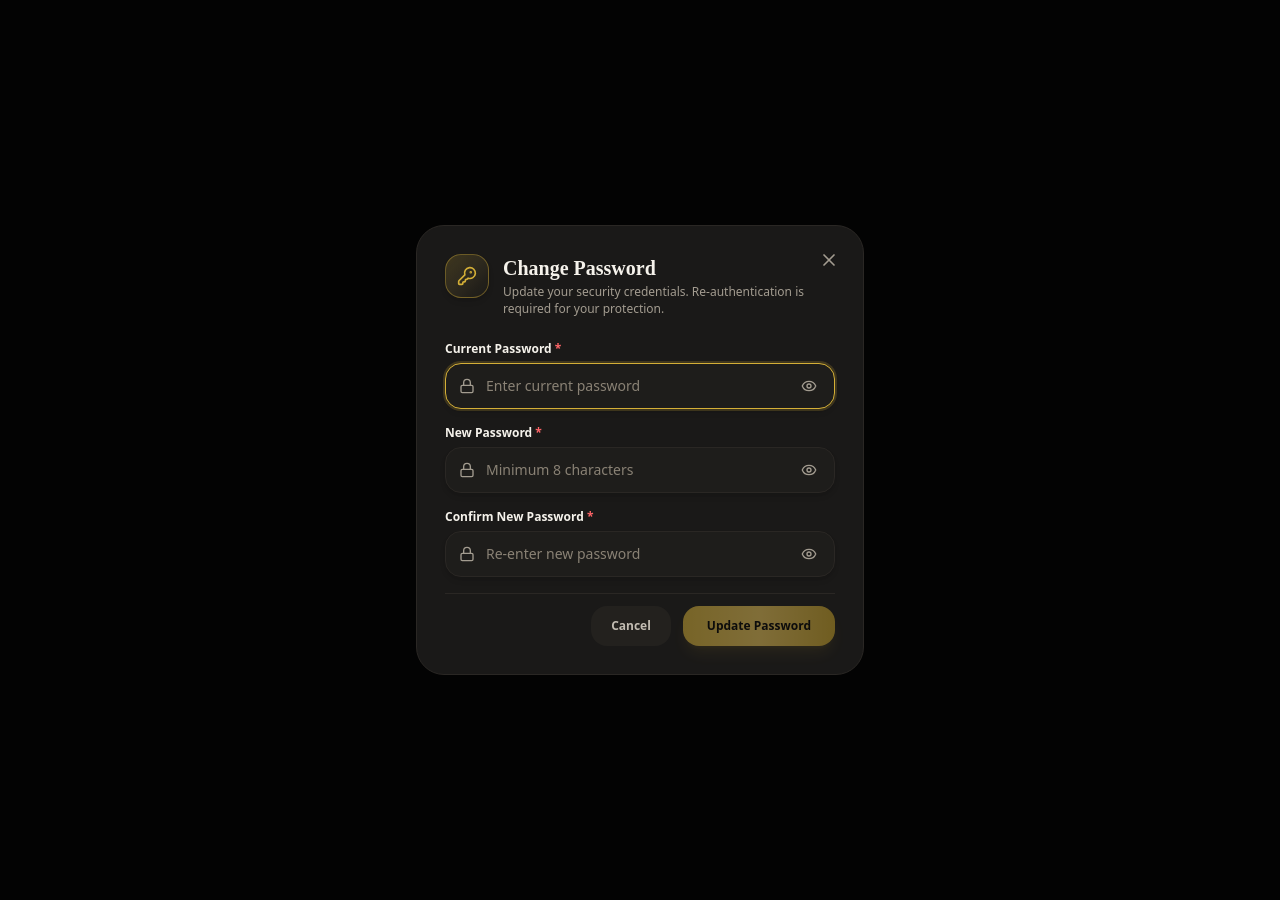
it: ChangePasswordModal › validates password fields and enables submit when valid
Step 1. Type "OldPass123!" into the password field with placeholder "Enter current password" → (640, 386), box left=445, top=363, right=835, bottom=409
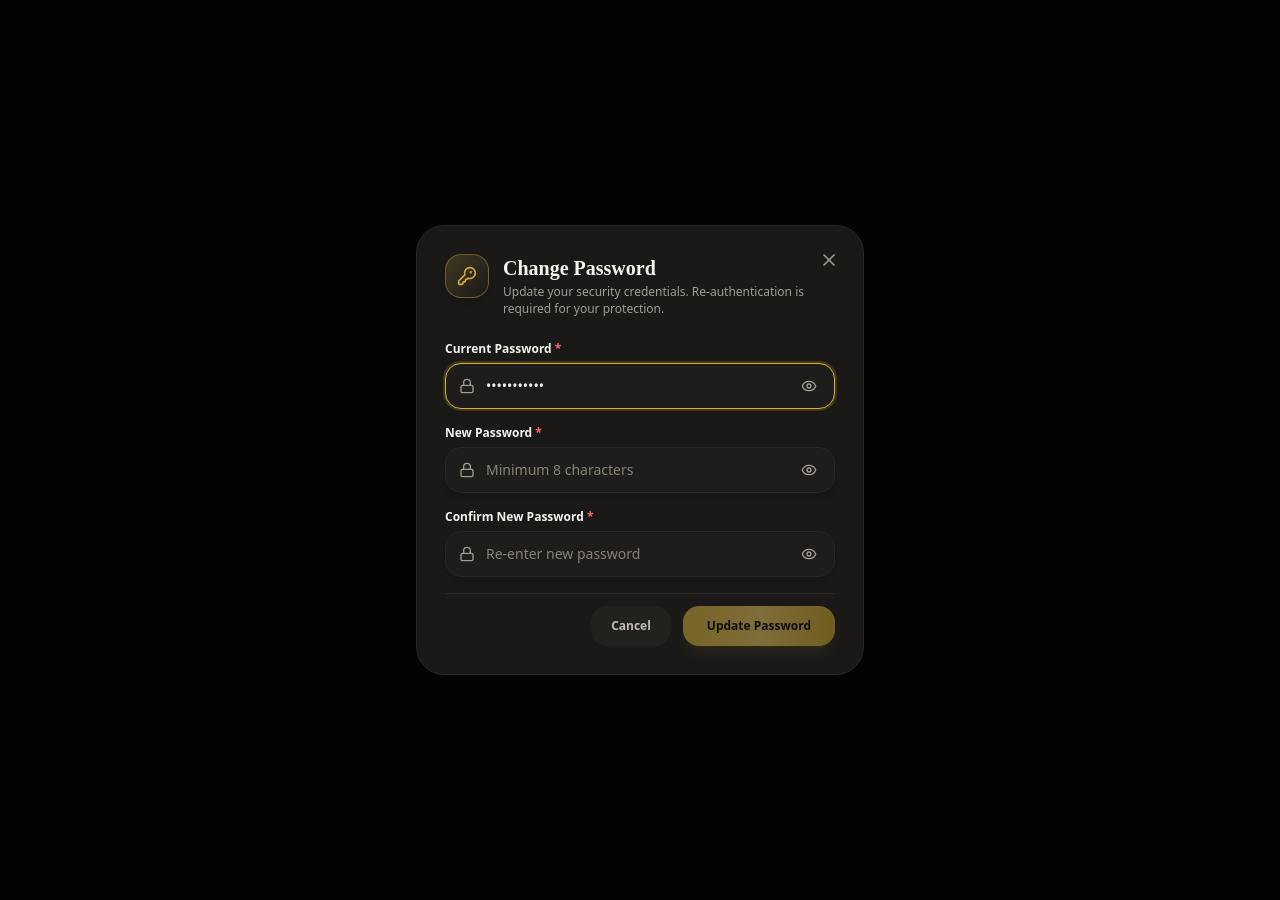
Step 2. Type "NewPass123!" into the password field with placeholder "Minimum 8 characters" → (640, 470), box left=445, top=447, right=835, bottom=493
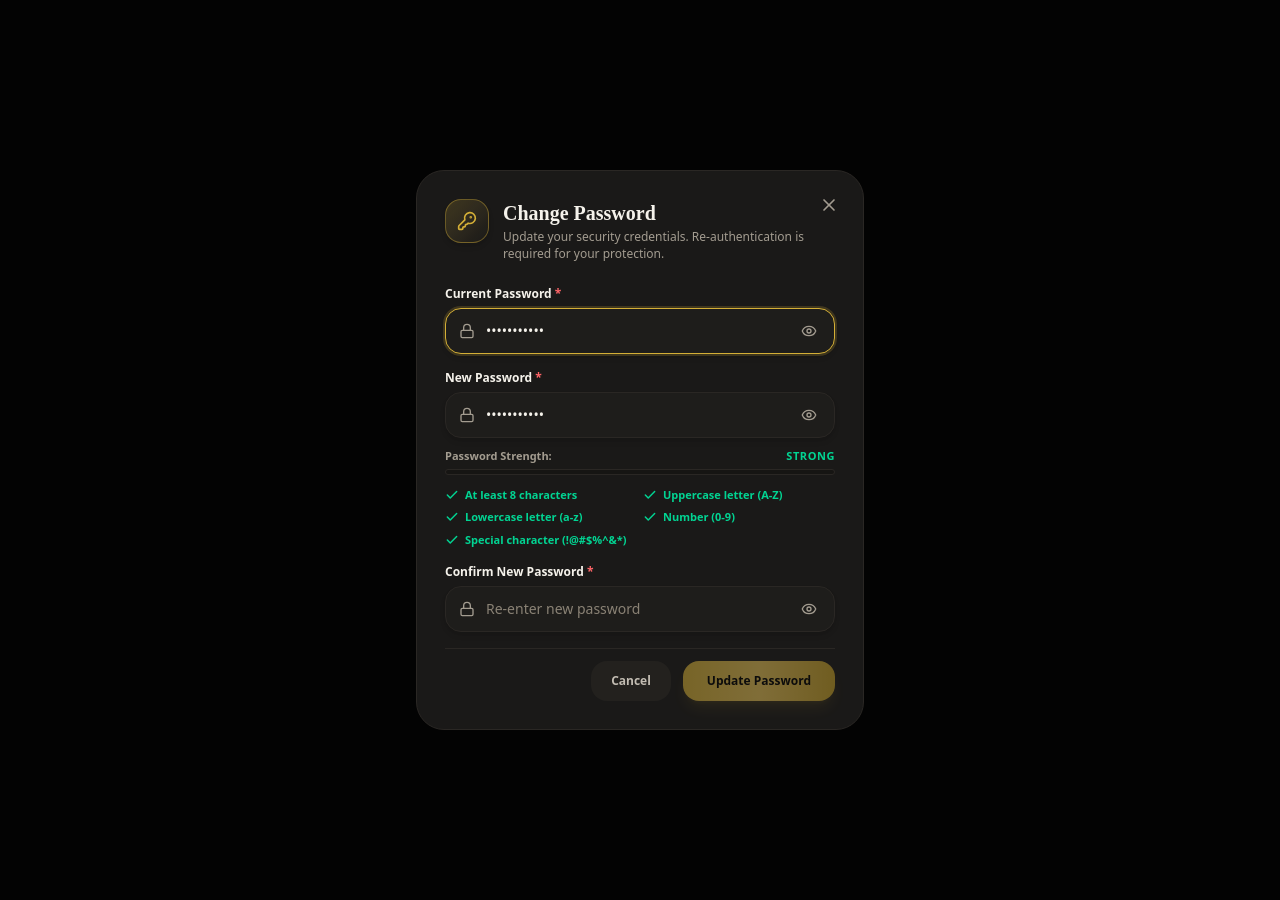
Step 3. Type "NewPass123!" into the password field with placeholder "Re-enter new password" → (640, 609), box left=445, top=586, right=835, bottom=632
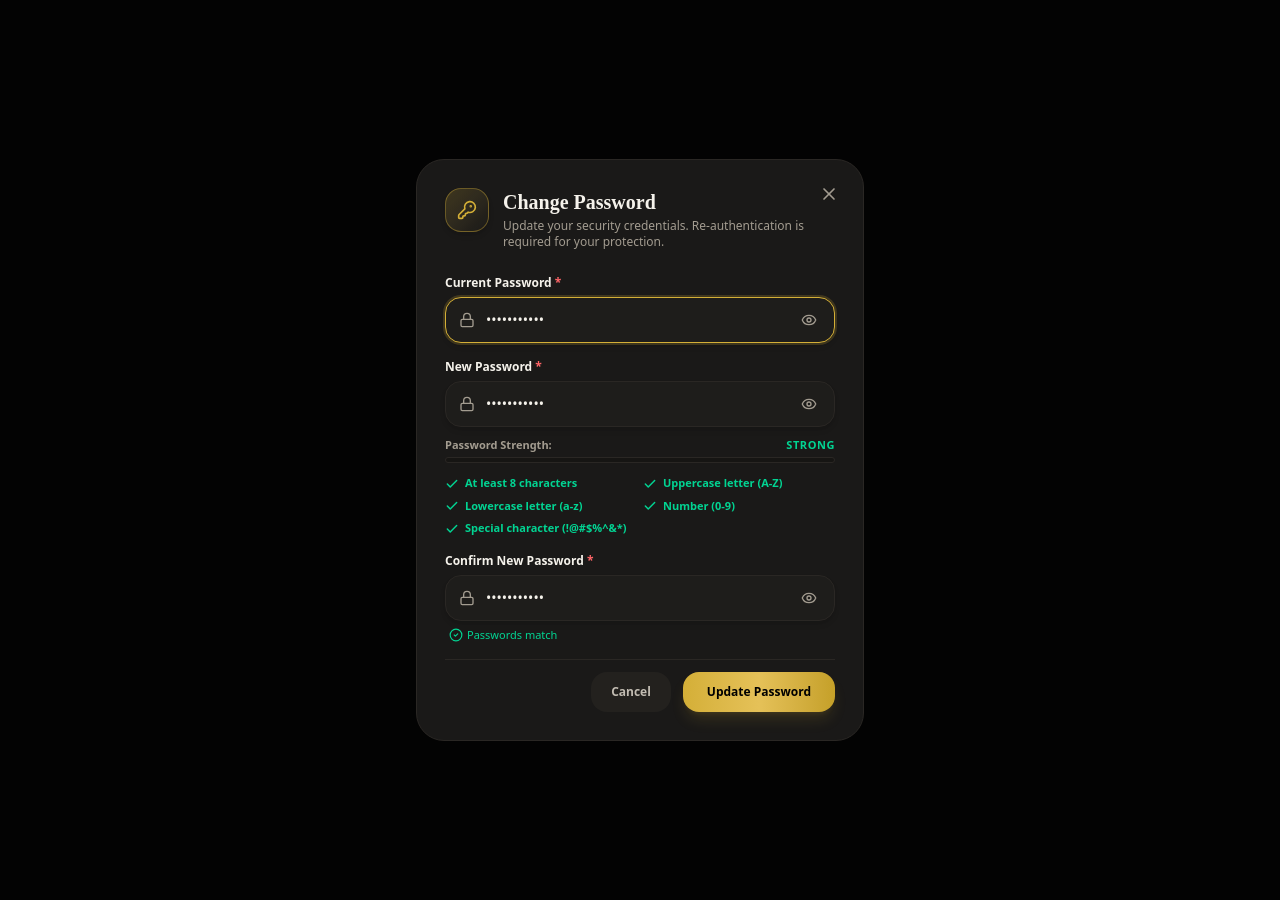
Check: the button "Update Password" is enabled, box left=683, top=672, right=835, bottom=712
